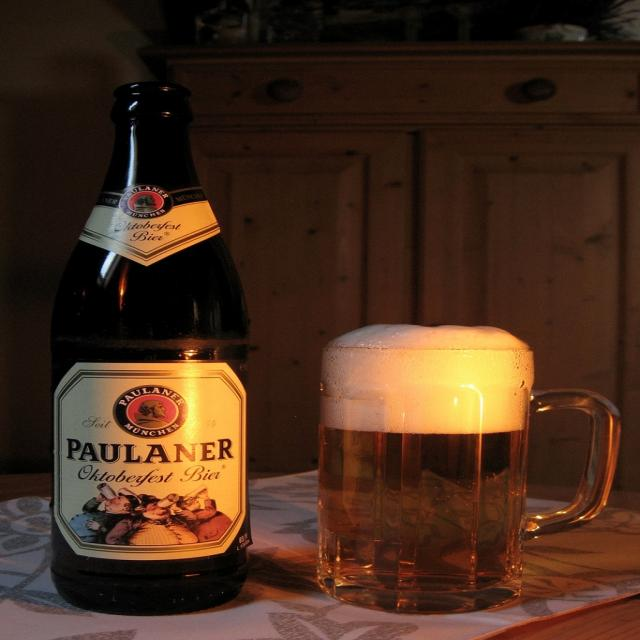paulaner: (114, 386, 190, 439), (120, 186, 173, 221)
